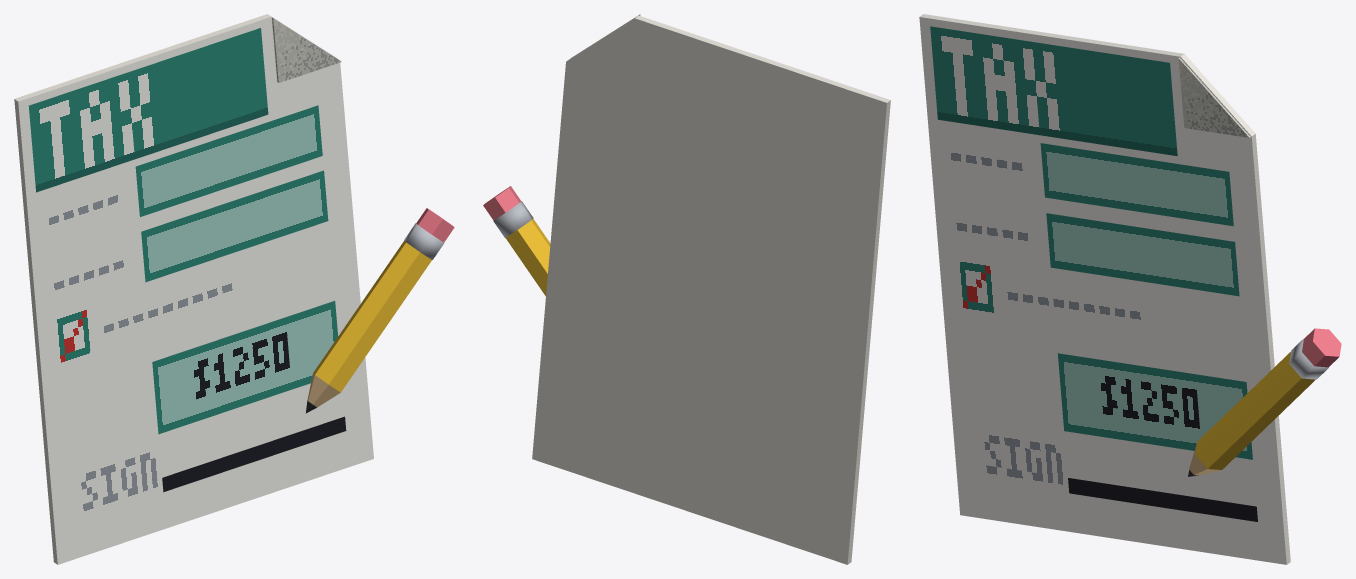
Rendered from moreB-taxForm.glb.
The picture shows the model from 3 angles, left to right: view 1: azimuth 30°, elevation 25°; view 2: azimuth 150°, elevation 25°; view 3: azimuth 330°, elevation 25°; orthographic projection. The views are drawn at different scales.
Parts seen in each view (by area): view 1: moreB.taxForm; view 2: moreB.taxForm; view 3: moreB.taxForm.
Boxes of the visible parts, box(x1,y1,x2,y2) form: moreB.taxForm: box(14, 14, 454, 564); moreB.taxForm: box(483, 14, 890, 564); moreB.taxForm: box(919, 14, 1341, 564).
Size of the model in its own units: 1.4 by 1.57 by 0.1484.
Materials: 8 (3 with a texture image).
